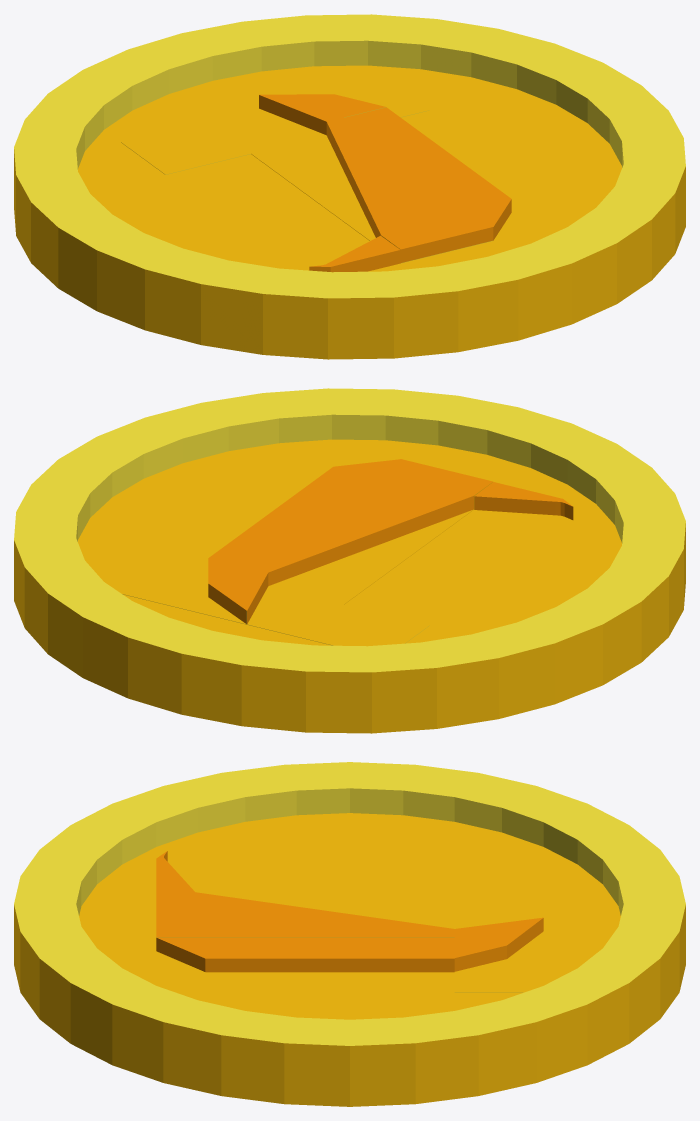
The model's file is dachcoin.fbx.
3 views of the same model, one above another, from view 1: azimuth 30°, elevation 25°; view 2: azimuth 150°, elevation 25°; view 3: azimuth 270°, elevation 25° (orthographic).
Parts seen in each view (by area): view 1: Cylinder; view 2: Cylinder; view 3: Cylinder.
Boxes of the visible parts, <box> form: Cylinder: <box>14,14,685,359</box>; Cylinder: <box>14,388,685,733</box>; Cylinder: <box>14,762,685,1106</box>.
Bounding box in the file's own units: 200 × 20 × 200.
